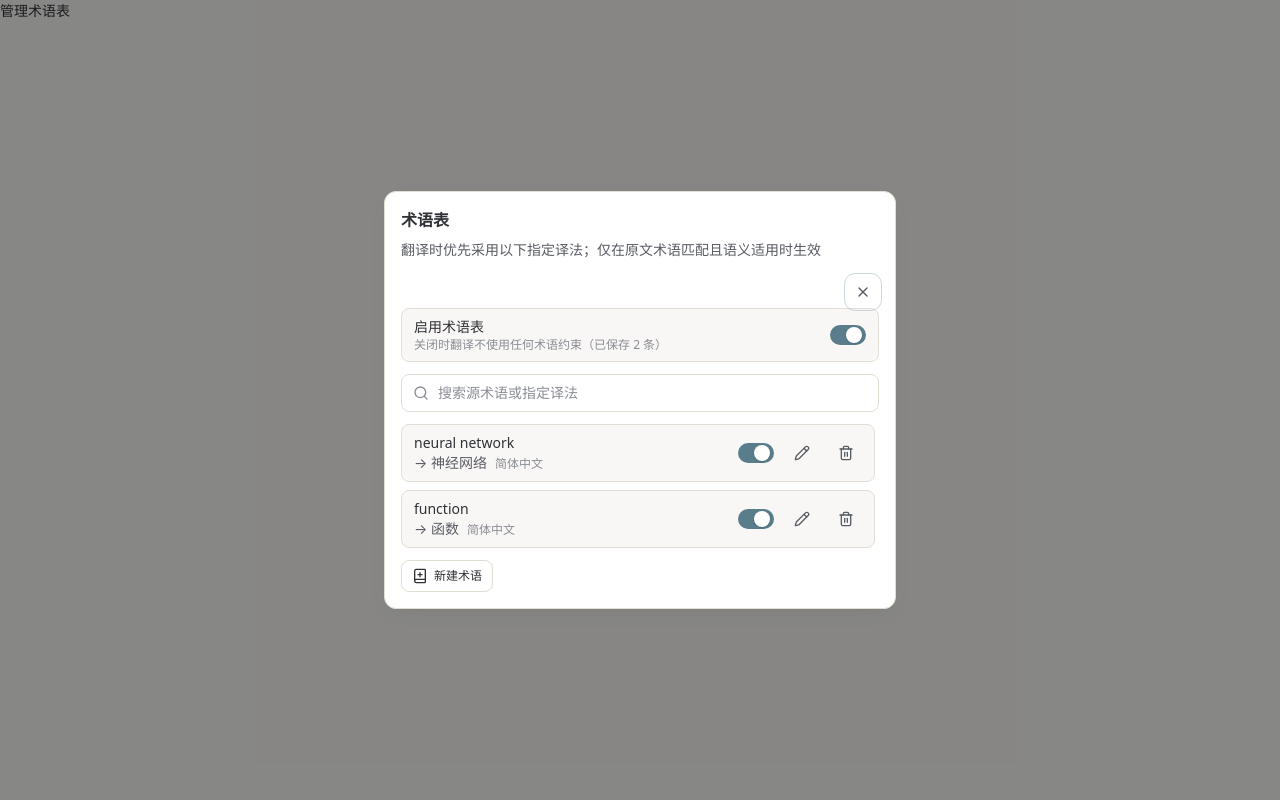
Test: TermbaseDialog › shows the empty state and search filters the list
Expected: the text "neural network" is shown, [414, 433, 514, 452]
Type "NEURAL" into the field named "搜索术语".
click(640, 393); type("NEURAL")  # box [401, 374, 879, 412]
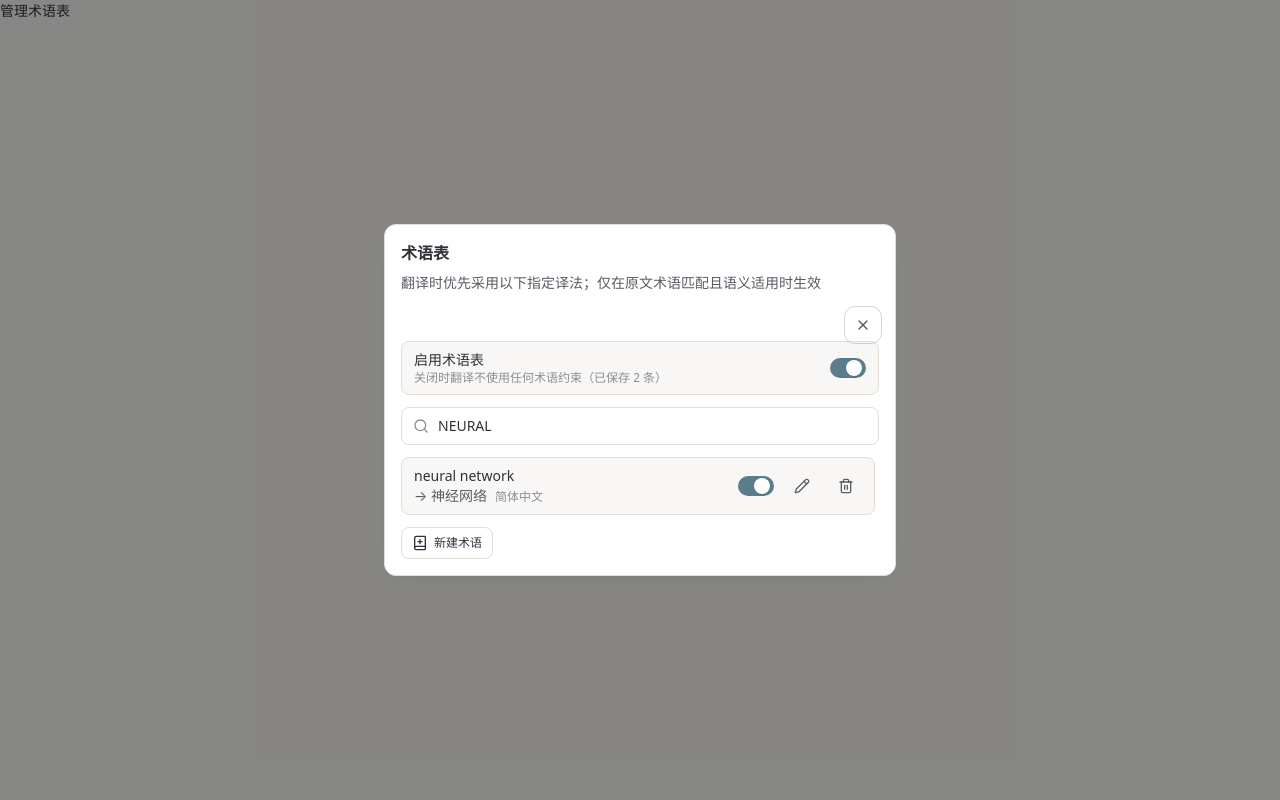
Expected: the text "neural network" is shown, [414, 466, 514, 485]
Now the text "function" is gone
Replace the text in the field named "搜索术语" with "不存在" at {"x": 640, "y": 426}, box [401, 407, 879, 445]
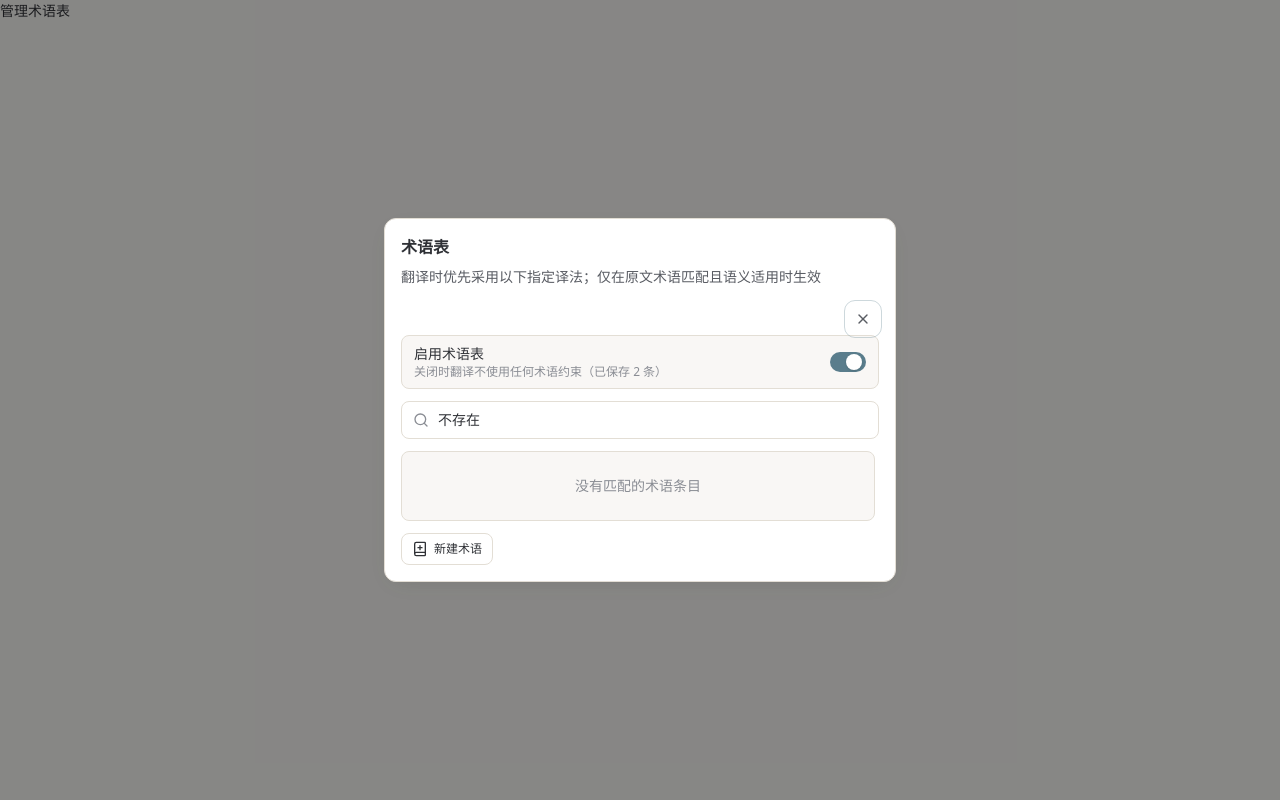
Now the text "没有匹配的术语条目" is shown, box [401, 451, 875, 521]
